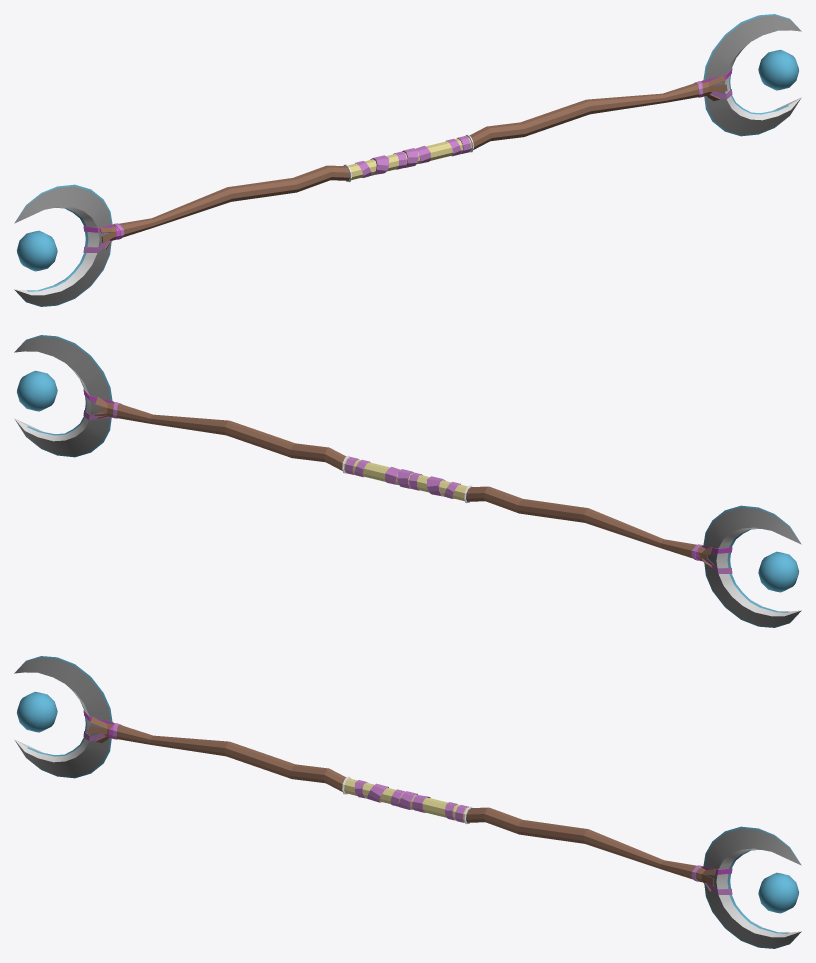
File: DruidStaff.fbx
3 views of the same model, one above another, from view 1: azimuth 30°, elevation 25°; view 2: azimuth 150°, elevation 25°; view 3: azimuth 330°, elevation 25° (orthographic).
Visible parts, largest first — view 1: pTorus12; view 2: pTorus12; view 3: pTorus12.
Part boxes in pixels (box(x1,y1,x2,y2)): pTorus12: box(14, 14, 801, 306); pTorus12: box(14, 335, 801, 627); pTorus12: box(14, 656, 801, 948).
Size of the model in its own units: 8392 by 1214 by 379.
